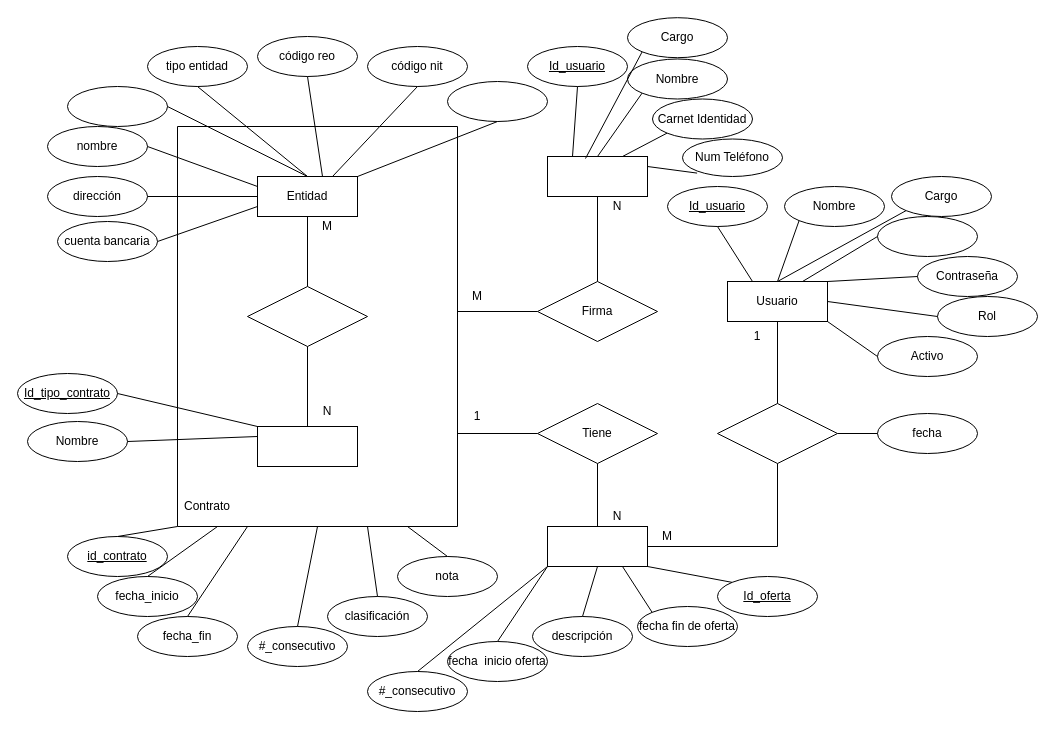
The diagram is 1055 pixels wide and 729 high, and some of its shapes have lost their labels. The shapes that lost their labels are listed below. From the top down, each one's centre as x and y in pixels, then its label:
At [117,106]: "Id_entidad".
At [497,101]: "#_teléfono".
At [597,176]: "Trabajador Autorizado".
At [927,236]: "Nombre de Usuario".
At [307,446]: "Tipo Contrto".
At [777,433]: "Realiza".
At [597,546]: "Oferta".
